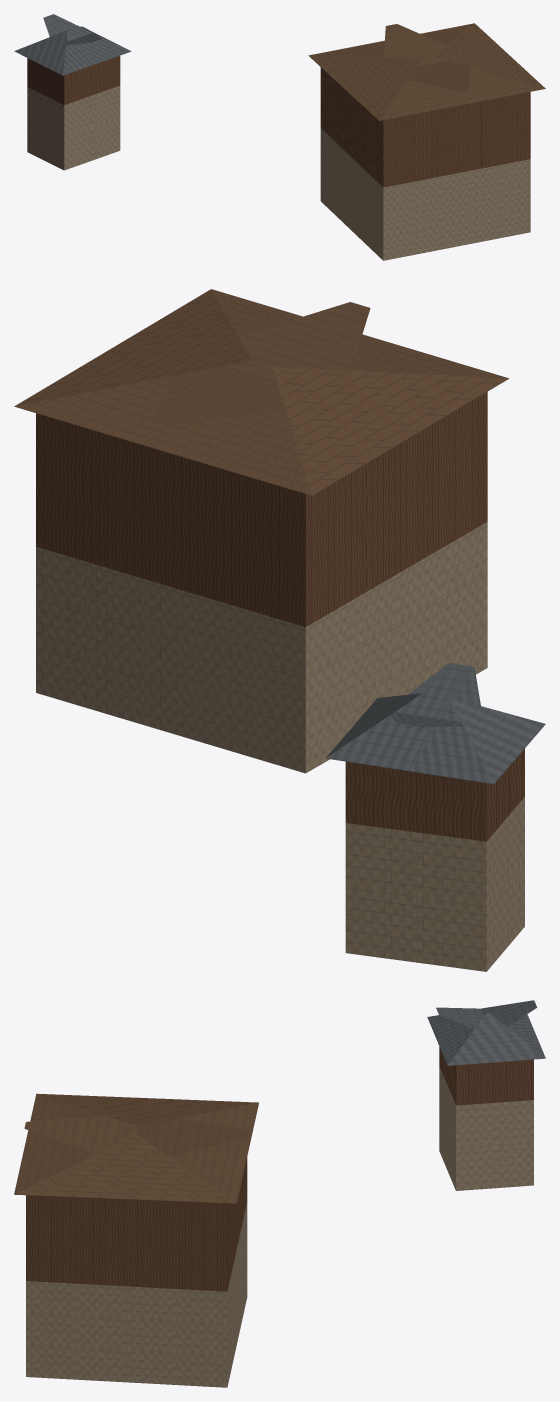
The model's file is bld_c34_-40_442.gltf.
3 views of the same model, one above another, from view 1: azimuth 30°, elevation 25°; view 2: azimuth 150°, elevation 25°; view 3: azimuth 270°, elevation 25° (orthographic). The views are drawn at different scales.
Parts seen in each view (by area): view 1: bld_c34_-40_442; view 2: bld_c34_-40_442; view 3: bld_c34_-40_442.
Part boxes in pixels (x1,y1,x2,y2): bld_c34_-40_442: (14,14,545,260); bld_c34_-40_442: (14,289,545,971); bld_c34_-40_442: (14,1000,545,1387).
Size of the model in its own units: 25.44 by 11 by 25.51.
4 materials, 4 textured.
